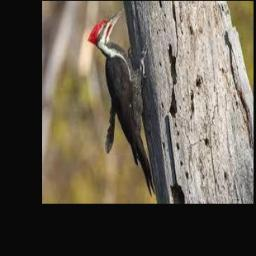Woodpecker: (88, 9, 156, 196)
